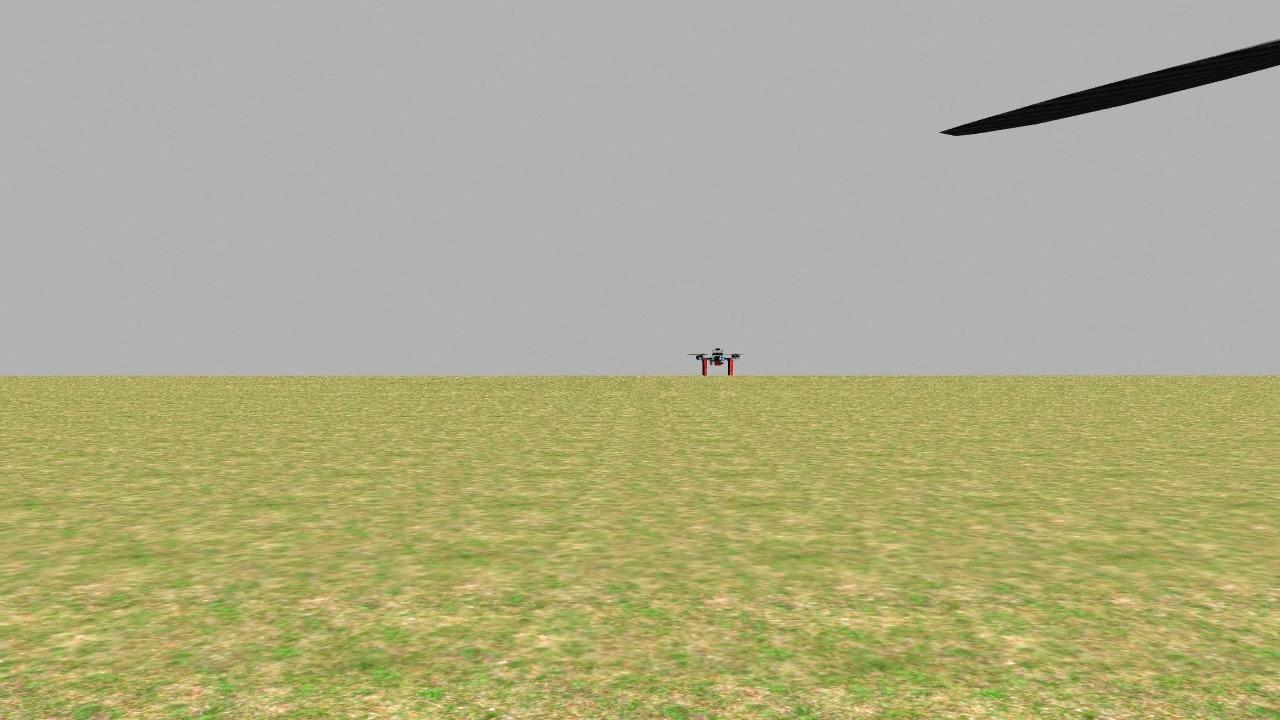UAV: (682, 337, 758, 383)
